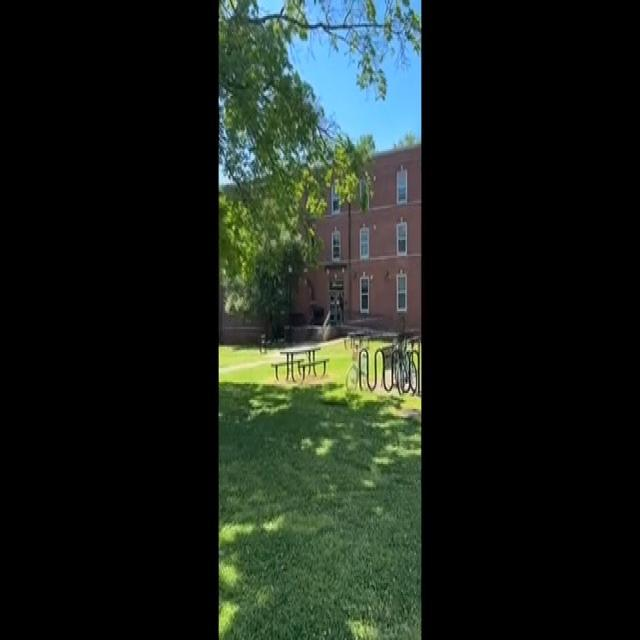drone: (289, 287, 307, 309)
